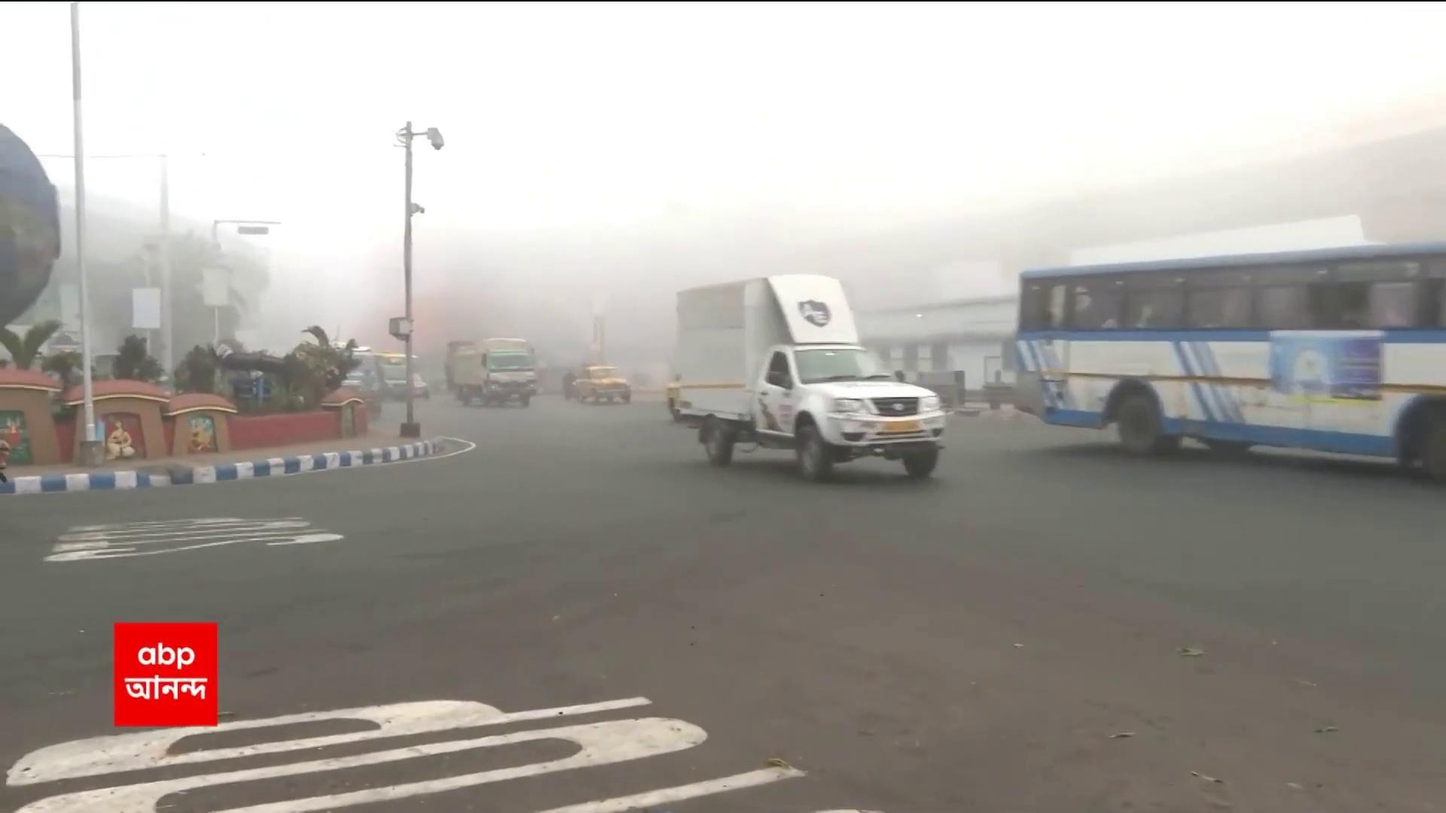Bus: (1007, 240, 1446, 486)
Car: (569, 358, 635, 403)
Truck: (669, 272, 949, 493), (450, 332, 547, 406)
